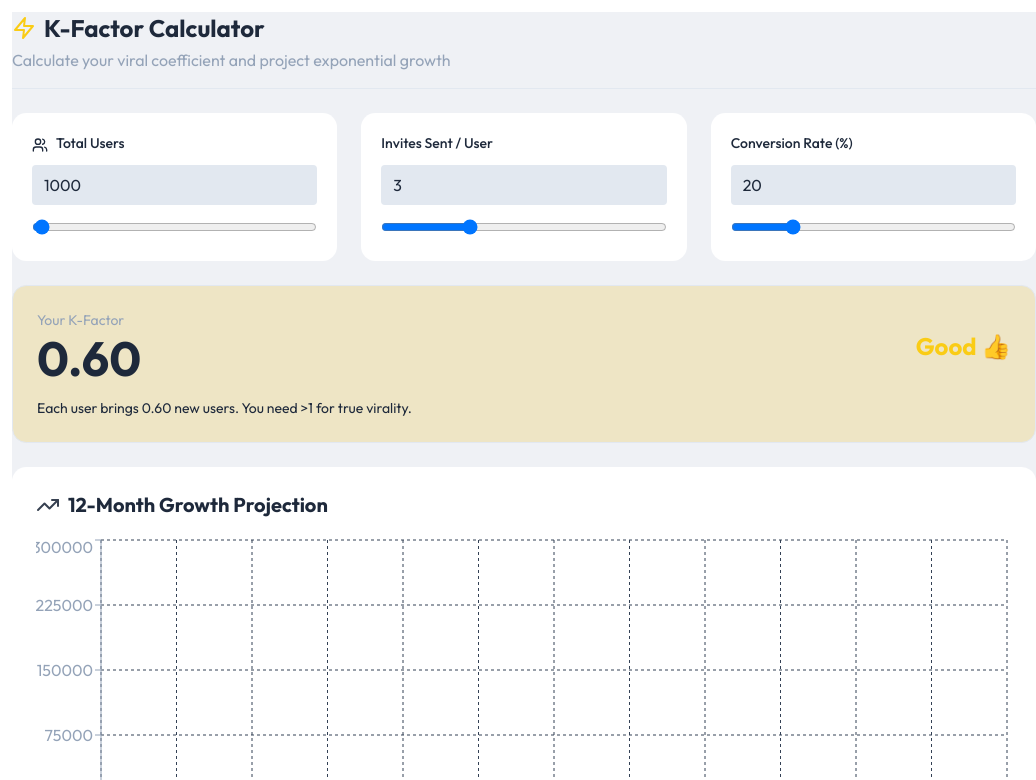
Test: KFactorCalculator › updates K-factor when inputs change
The image size is (1036, 780).
Change invites to 5
Replace the text in the number field below "Invites Sent / User" with "5". click: (524, 185)
box: [381, 165, 667, 205]
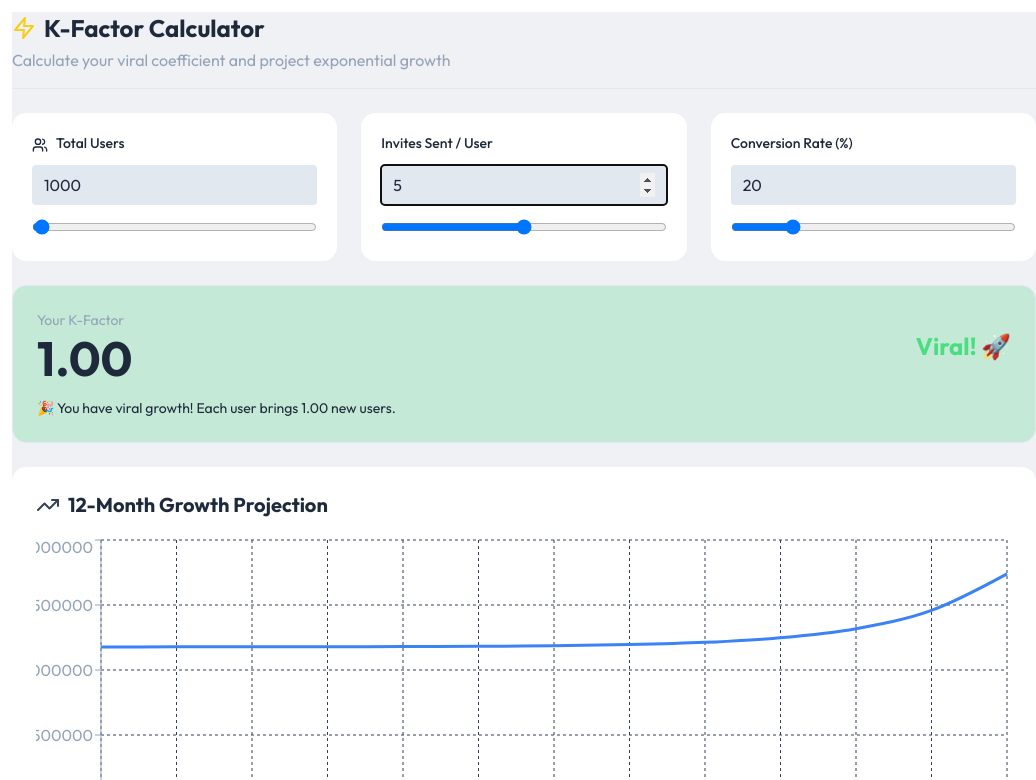
Expected: the text "1.00" is shown, [37, 334, 133, 382]
